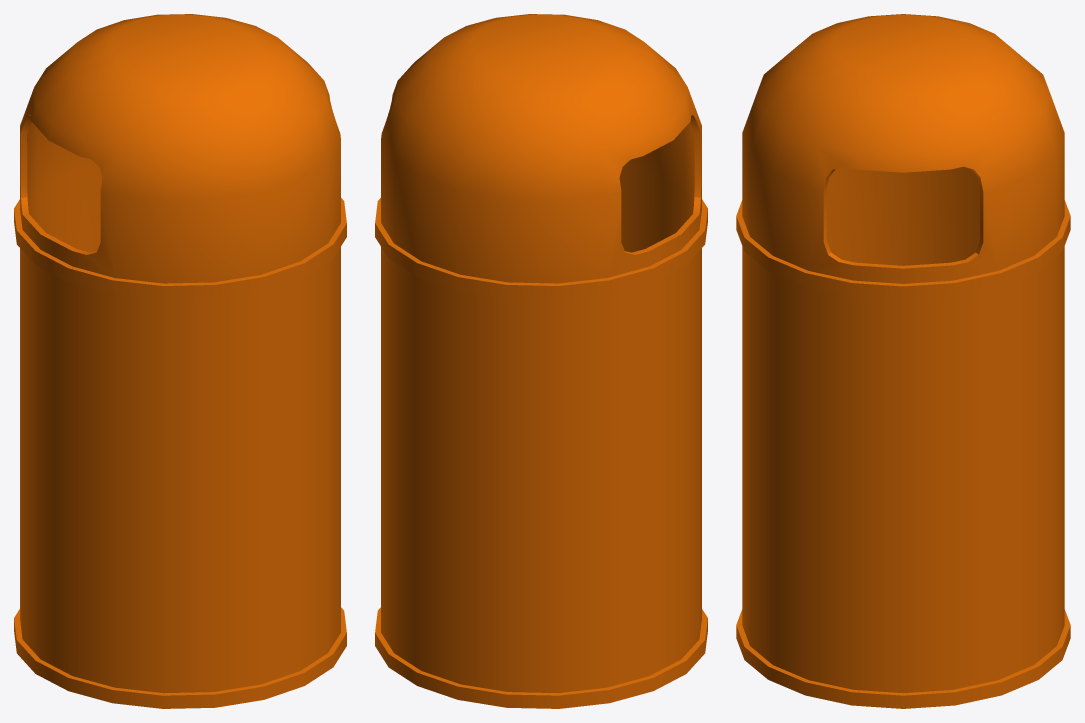
File: TrashCan1.fbx
The picture shows the model from 3 angles, left to right: view 1: azimuth 30°, elevation 25°; view 2: azimuth 150°, elevation 25°; view 3: azimuth 270°, elevation 25°; orthographic projection.
Visible parts, largest first — view 1: TreshCan2.014; view 2: TreshCan2.014; view 3: TreshCan2.014.
Part boxes in pixels (box(x1,y1,x2,y2)): TreshCan2.014: box(14, 14, 346, 708); TreshCan2.014: box(375, 14, 707, 708); TreshCan2.014: box(736, 14, 1070, 708).
Bounding box in the file's own units: 51.1 × 100 × 51.1.
